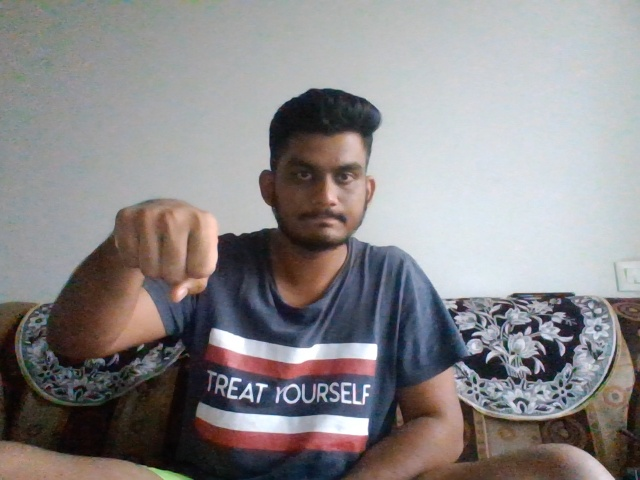Yes: (110, 189, 231, 307)
